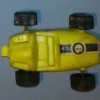amarillo: (3, 13, 100, 85)
